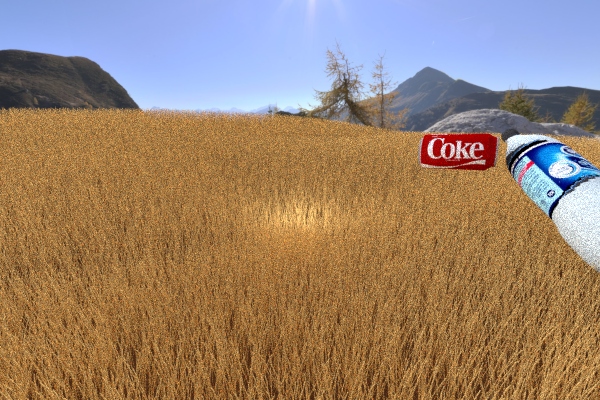bottle: (501, 128, 600, 288)
can: (418, 133, 499, 170)
